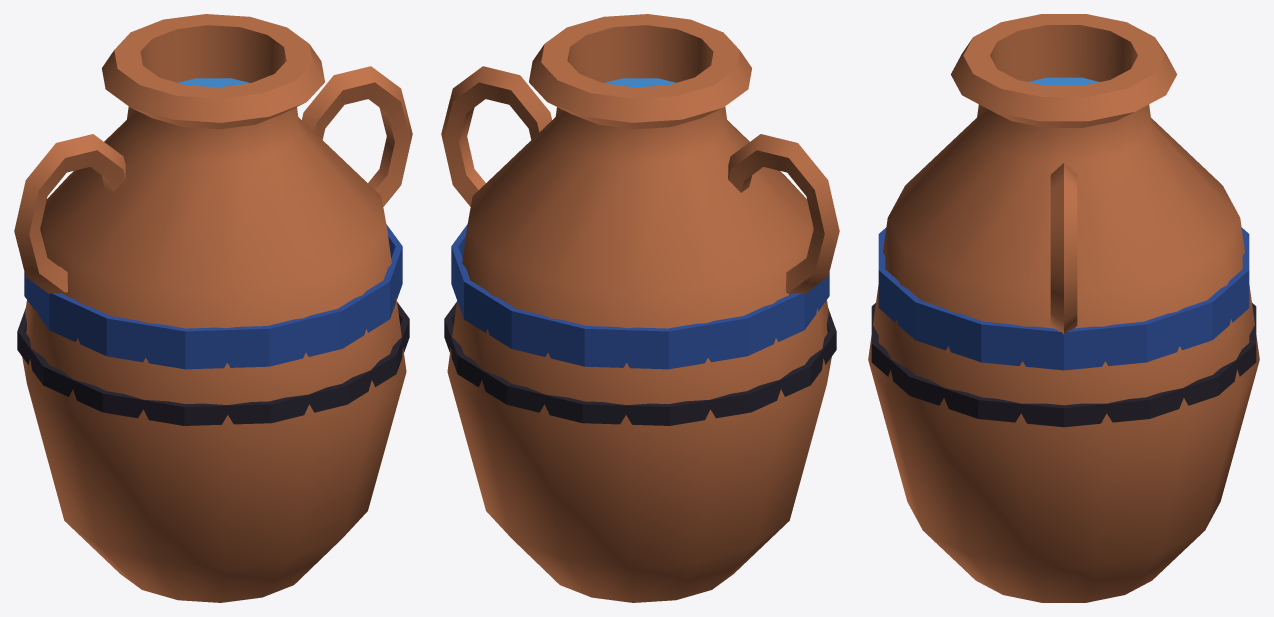
The model's file is water-jar.glb.
The picture shows the model from 3 angles, left to right: view 1: azimuth 30°, elevation 25°; view 2: azimuth 150°, elevation 25°; view 3: azimuth 270°, elevation 25°; orthographic projection.
Visible parts, largest first — view 1: Jar, Jar stripe, Jar handles, Jar band; view 2: Jar, Jar stripe, Jar handles, Jar band; view 3: Jar, Jar stripe, Jar band, Jar handles.
Part boxes in pixels (left/top/right/bottom): Jar: left=22, top=14, right=406, bottom=602; Jar stripe: left=24, top=224, right=402, bottom=369; Jar handles: left=14, top=66, right=412, bottom=294; Jar band: left=17, top=302, right=409, bottom=425; Jar: left=447, top=14, right=831, bottom=602; Jar stripe: left=451, top=224, right=829, bottom=369; Jar handles: left=441, top=66, right=839, bottom=294; Jar band: left=444, top=302, right=836, bottom=425; Jar: left=868, top=14, right=1259, bottom=602; Jar stripe: left=878, top=227, right=1249, bottom=370; Jar band: left=871, top=303, right=1256, bottom=427; Jar handles: left=1050, top=163, right=1077, bottom=333.
Size of the model in its own units: 0.66 by 0.8 by 0.56.
